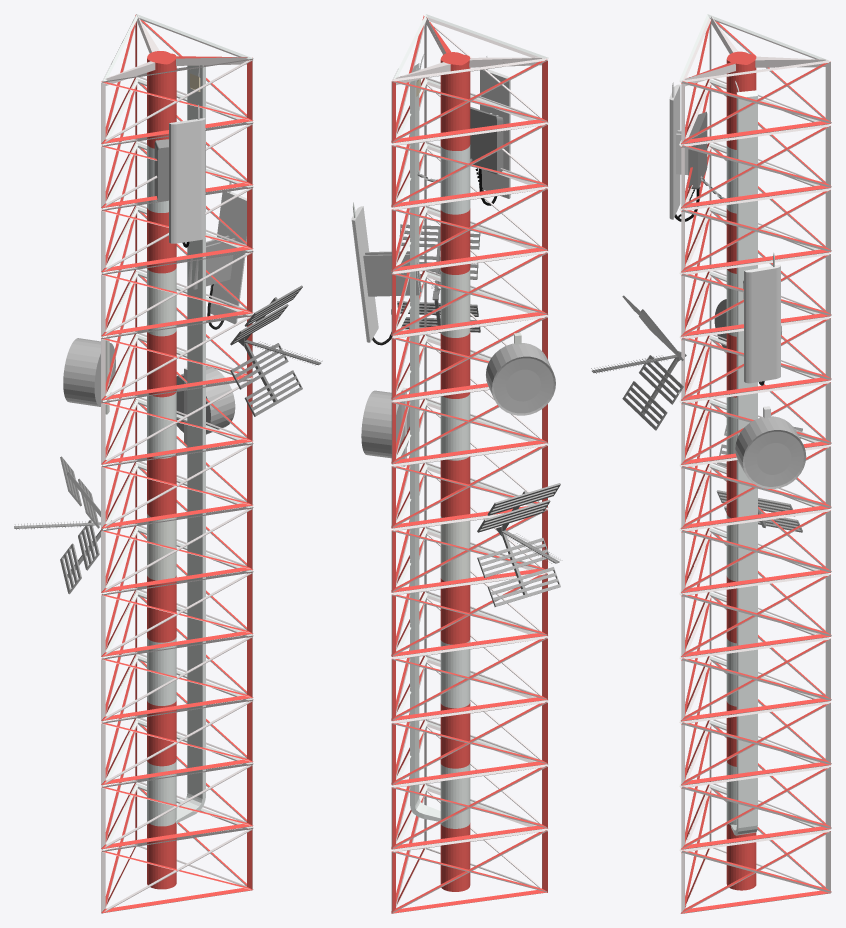
File: relay.obj
3 views of the same model, side by side, from view 1: azimuth 30°, elevation 25°; view 2: azimuth 150°, elevation 25°; view 3: azimuth 270°, elevation 25° (orthographic).
Visible parts, largest first — view 1: Plane.001_Plane.002; view 2: Plane.001_Plane.002; view 3: Plane.001_Plane.002.
Part boxes in pixels (box(x1,y1,x2,y2)): Plane.001_Plane.002: box(14, 14, 322, 913); Plane.001_Plane.002: box(351, 14, 562, 913); Plane.001_Plane.002: box(591, 14, 831, 913).
Bounding box in the file's own units: 4.58 × 16.28 × 4.26.
Materials: 1 (1 with a texture image).
